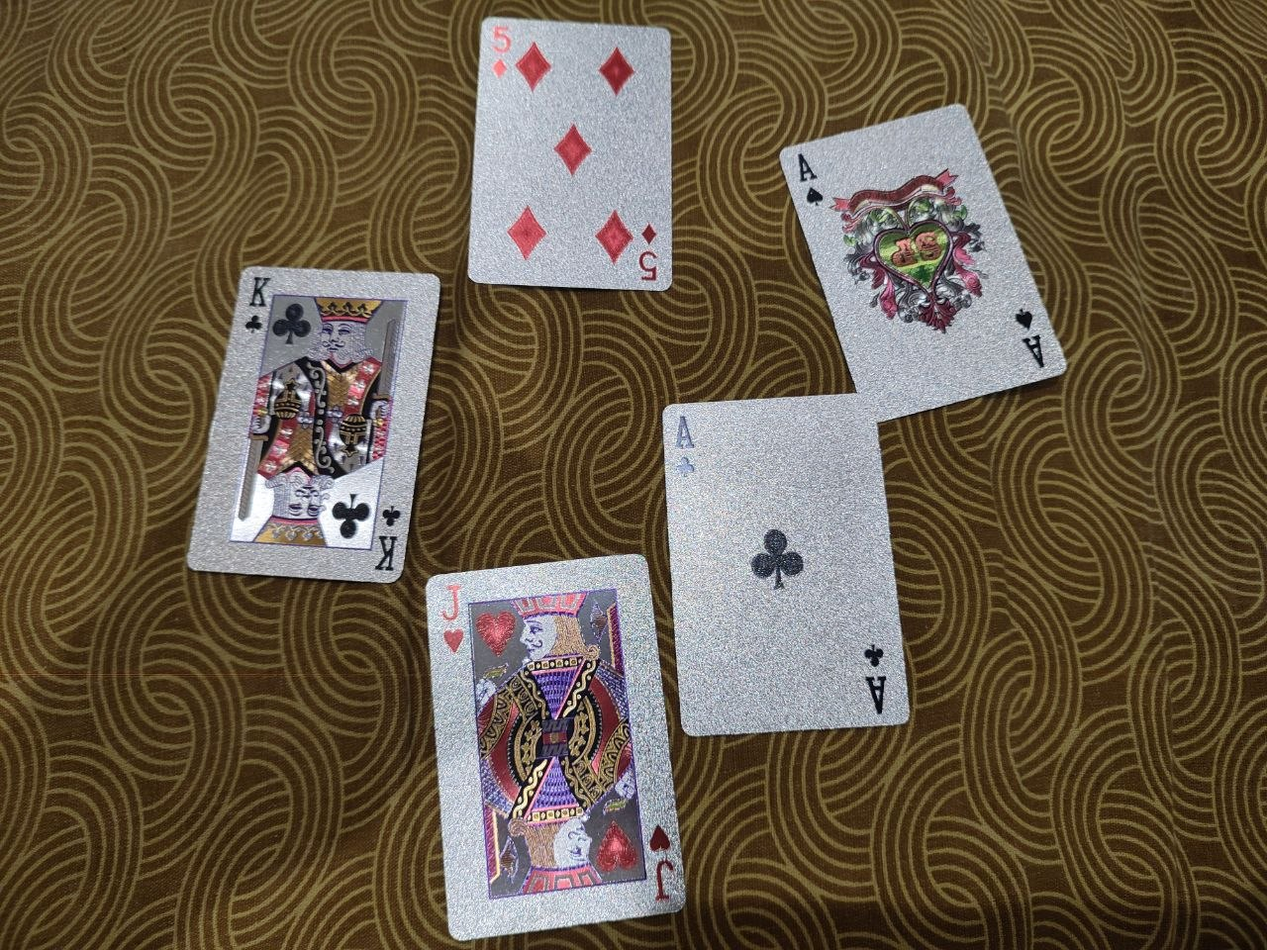5D: (465, 15, 675, 292)
AC: (659, 389, 911, 737)
AS: (776, 102, 1069, 420)
JH: (424, 550, 688, 942)
KC: (184, 263, 443, 584)
